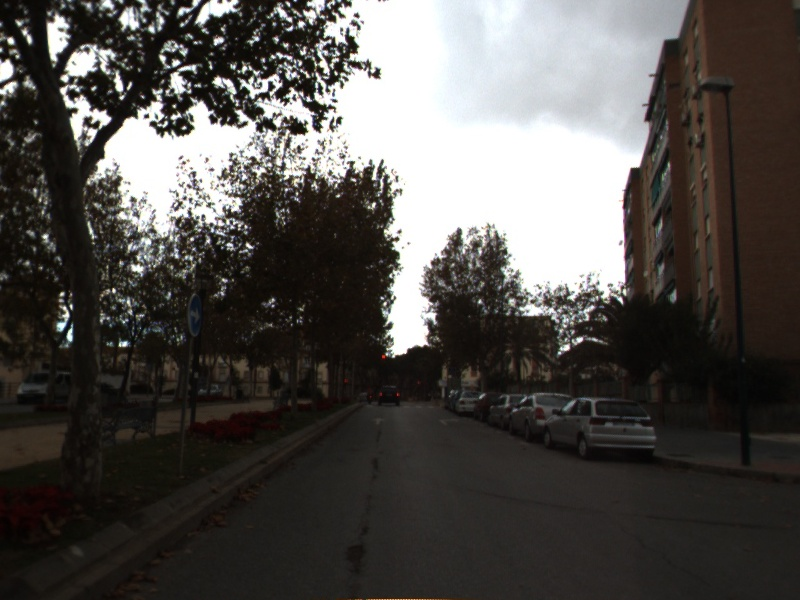RIGHT: (436, 416, 462, 428)
STRAIGHT: (369, 415, 387, 426)
